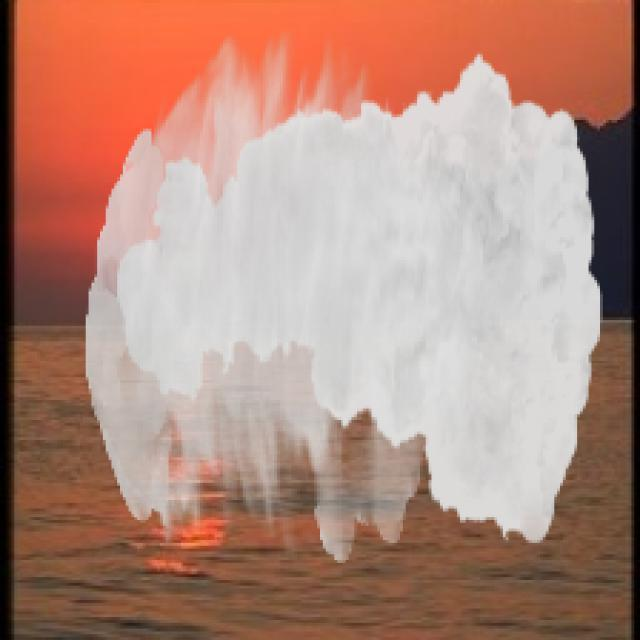Smoke: (86, 31, 603, 563)
